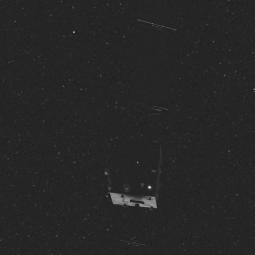smart_1: (88, 91, 176, 231)
